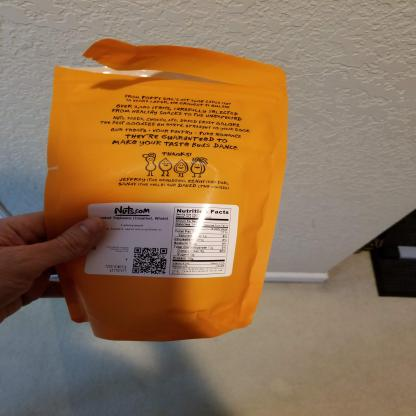qr: (128, 242, 175, 279)
